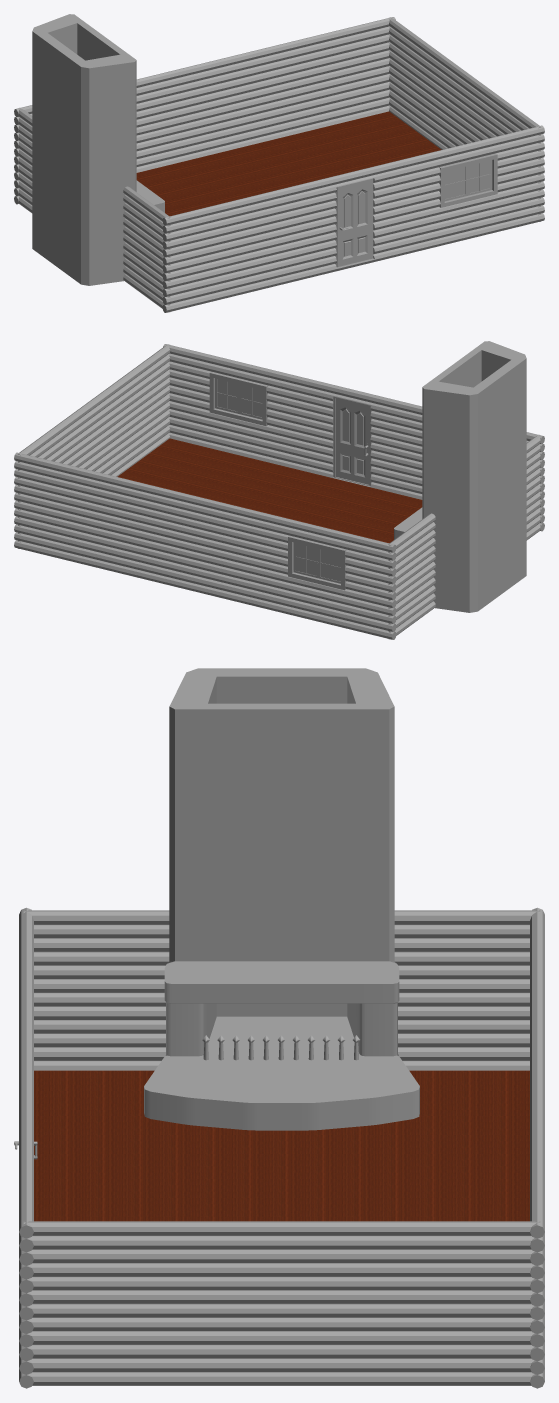
File: House_Outerwalls.fbx
3 renders of one model, top to bottom at view 1: azimuth 30°, elevation 25°; view 2: azimuth 150°, elevation 25°; view 3: azimuth 270°, elevation 25°, orthographic. The views are drawn at different scales.
Visible parts, largest first — view 1: Box005, door, Box003; view 2: Box005, door, Box003, Box002; view 3: Box005.
Part boxes in pixels (x1,y1,x2,y2): Box005: (14,14,544,312); door: (336,178,373,267); Box003: (444,160,492,201); Box005: (14,341,544,639); door: (336,398,369,484); Box003: (215,378,262,419); Box002: (293,542,340,583); Box005: (19,668,544,1388).
Bounding box in the file's own units: 10.89 × 5.5 × 7.07.
